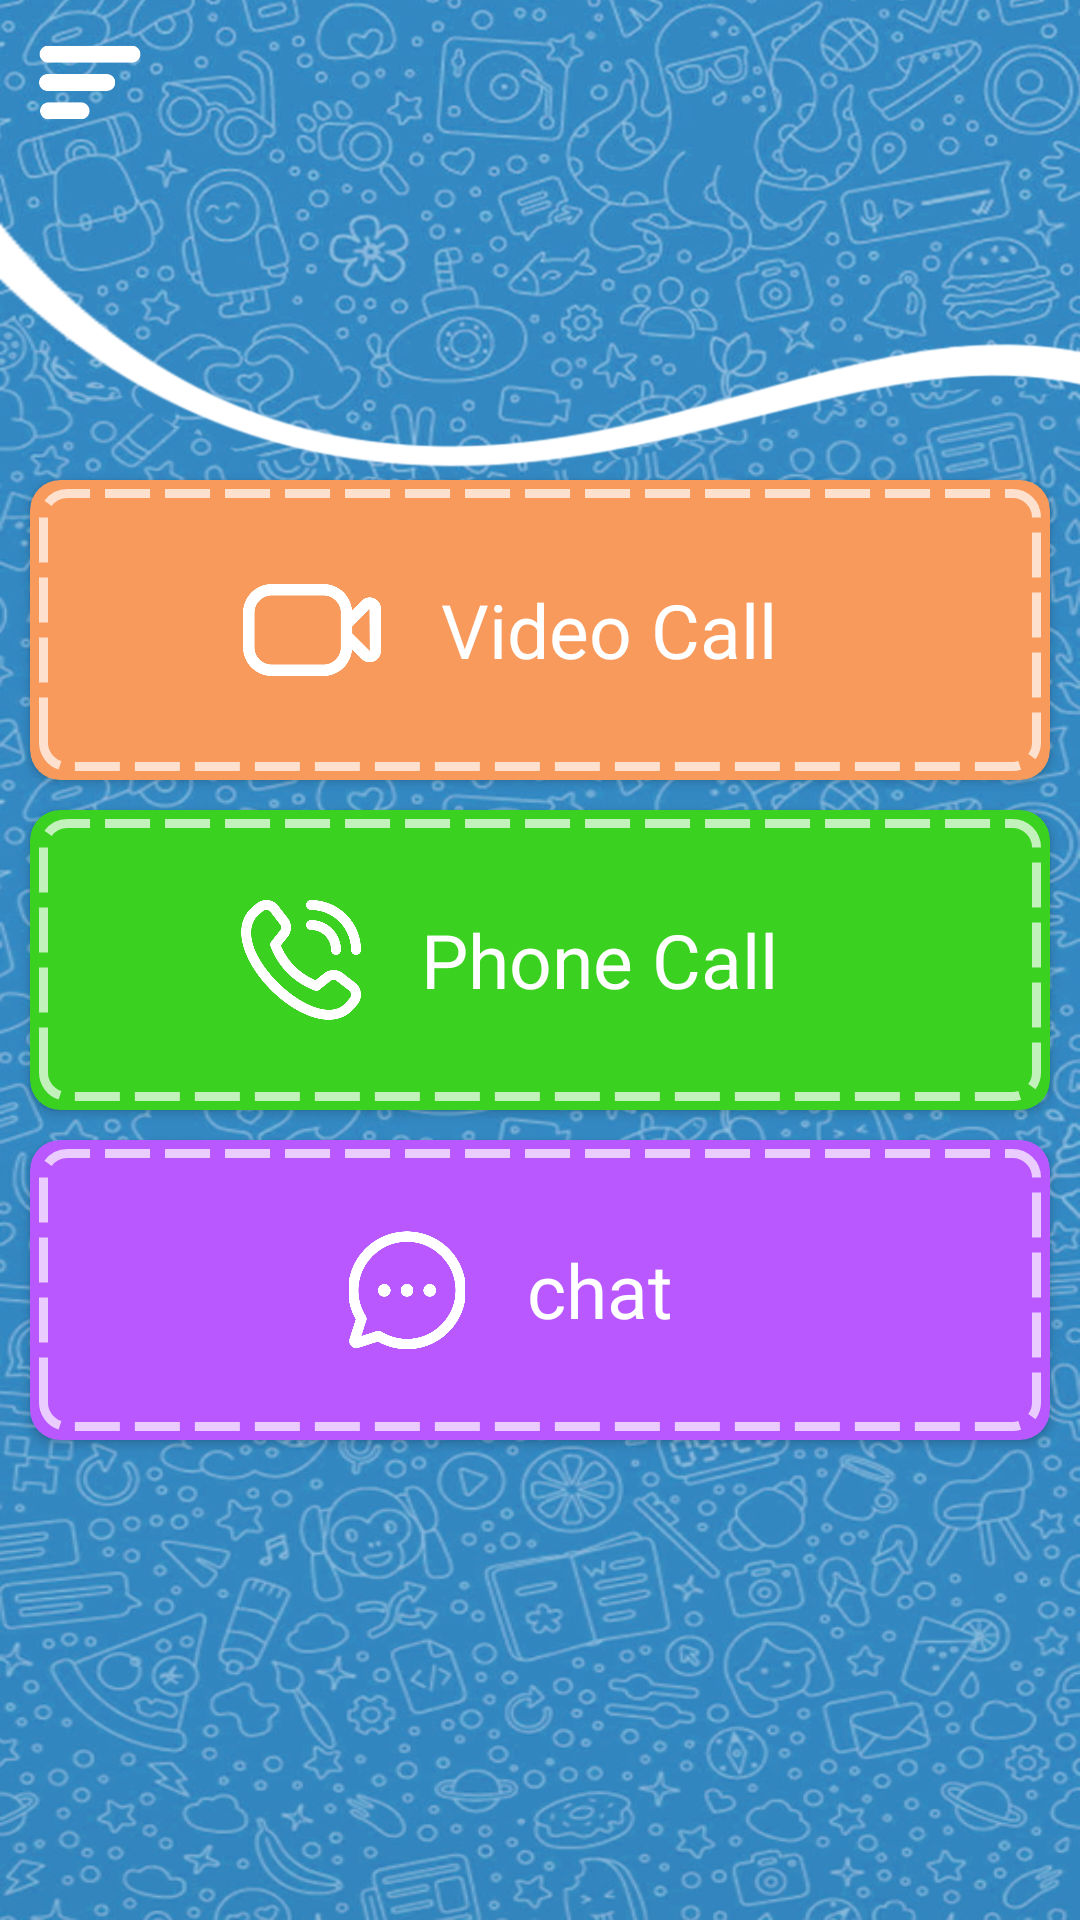

Where to tap for icons on this 1080 x 1920 app screen, as point (x, y):
drawer: point (90, 82)
